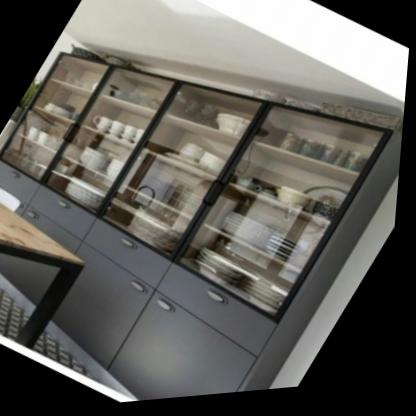Curtains: (0, 39, 406, 404)
